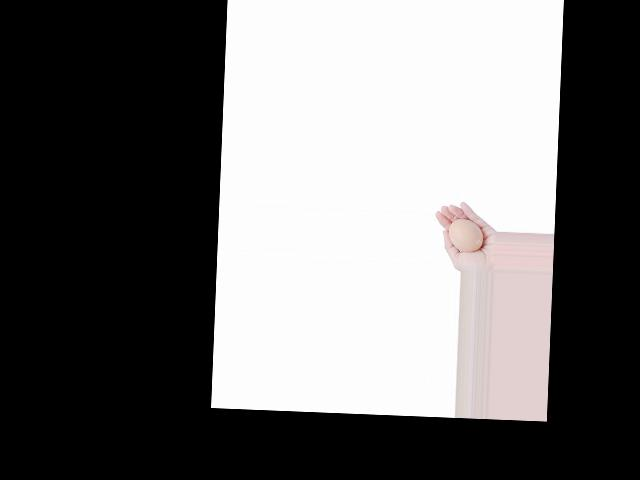egg: (448, 218, 483, 252)
